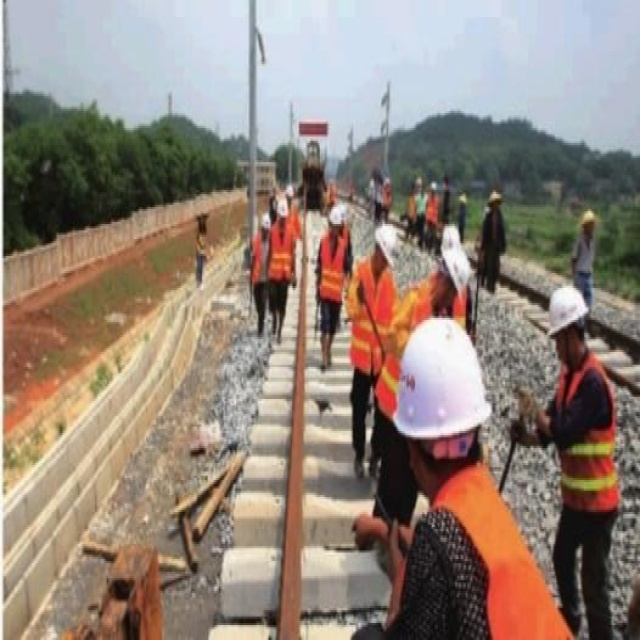Helmet: (386, 306, 504, 508), (536, 277, 600, 365)
Reflective vest: (551, 349, 621, 521), (346, 256, 401, 376), (315, 232, 349, 306)
